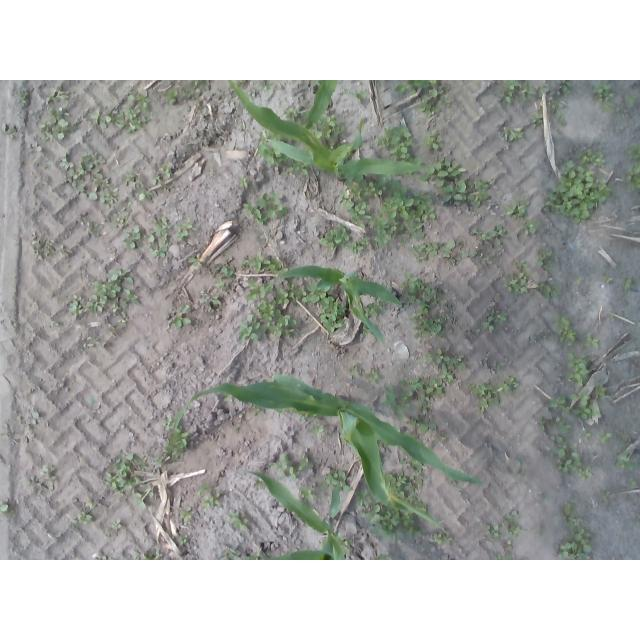Maize: (172, 374, 484, 535), (228, 81, 434, 180), (266, 267, 402, 348), (249, 472, 347, 561), (304, 80, 339, 128)
Weeds: (530, 383, 606, 479), (339, 178, 436, 249), (65, 268, 140, 350), (542, 148, 614, 225), (384, 376, 449, 441), (238, 282, 310, 340), (402, 270, 458, 339), (420, 155, 492, 208), (499, 80, 573, 129), (58, 151, 119, 210), (105, 451, 155, 510), (91, 88, 153, 135), (553, 500, 595, 560), (467, 375, 522, 417), (147, 216, 198, 261), (394, 80, 454, 118), (411, 240, 478, 269), (369, 502, 418, 541), (240, 192, 291, 228), (311, 284, 347, 334), (156, 418, 188, 469), (472, 224, 509, 268), (425, 348, 467, 385), (37, 106, 79, 143), (31, 231, 74, 262), (376, 124, 412, 161), (270, 452, 314, 481), (501, 257, 531, 298), (123, 169, 157, 203), (486, 509, 524, 539), (386, 472, 423, 500), (566, 352, 594, 389), (212, 250, 236, 291), (77, 211, 112, 239), (241, 250, 280, 274), (594, 80, 618, 116), (319, 224, 349, 252), (199, 479, 225, 511), (318, 114, 343, 147), (29, 464, 57, 492), (556, 313, 576, 349), (481, 309, 507, 335), (324, 468, 352, 492), (171, 304, 194, 332), (349, 364, 379, 385), (122, 225, 145, 252), (111, 202, 133, 230), (201, 286, 222, 315), (537, 247, 560, 273), (229, 510, 252, 535), (245, 280, 268, 305), (537, 281, 564, 302), (624, 160, 640, 194), (508, 200, 533, 221), (44, 84, 70, 104), (66, 512, 95, 528), (356, 487, 371, 517), (364, 299, 384, 320), (488, 545, 516, 560), (581, 330, 602, 350), (347, 236, 369, 255), (616, 450, 636, 470), (504, 125, 526, 143), (182, 81, 202, 100), (162, 86, 181, 106), (286, 163, 310, 178), (425, 132, 442, 153), (13, 89, 31, 107), (134, 550, 166, 560), (400, 457, 420, 472), (258, 146, 275, 163), (354, 89, 370, 107), (521, 220, 539, 236), (1, 124, 19, 140), (625, 140, 640, 159), (181, 505, 196, 524), (219, 548, 242, 560), (284, 106, 301, 122), (154, 174, 171, 190), (300, 486, 316, 502), (1, 424, 14, 443), (243, 548, 262, 561), (432, 533, 454, 544), (187, 252, 202, 268), (311, 423, 325, 440), (30, 410, 42, 428), (159, 165, 173, 180), (28, 142, 45, 154), (237, 176, 252, 189), (624, 95, 636, 110), (493, 360, 508, 372), (111, 518, 125, 530), (259, 83, 274, 94), (515, 459, 524, 477), (623, 278, 633, 294), (468, 328, 480, 341), (603, 431, 614, 445), (0, 501, 8, 519), (539, 491, 550, 504), (85, 497, 95, 511), (239, 412, 249, 425), (603, 275, 616, 285), (85, 395, 95, 407), (536, 524, 544, 539), (626, 477, 638, 487), (202, 81, 212, 92), (375, 553, 390, 560), (253, 407, 263, 417), (50, 322, 61, 331), (224, 394, 233, 405), (601, 492, 612, 501), (541, 333, 551, 342), (574, 277, 583, 287), (237, 80, 251, 86), (180, 536, 189, 545), (621, 431, 629, 441), (609, 315, 616, 325), (236, 427, 241, 435)
